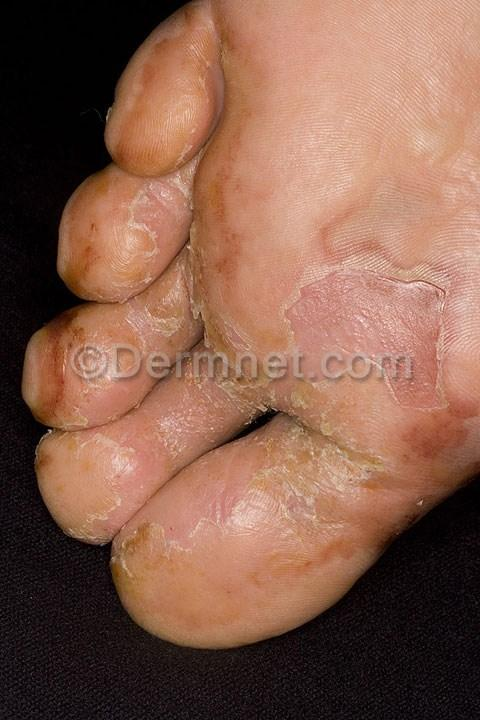Eczema: (304, 162, 480, 410), (148, 449, 342, 629), (110, 22, 270, 151), (350, 393, 480, 538), (65, 161, 196, 282), (30, 316, 135, 430), (162, 346, 265, 452), (193, 147, 295, 246), (50, 426, 147, 527), (135, 269, 227, 358)
